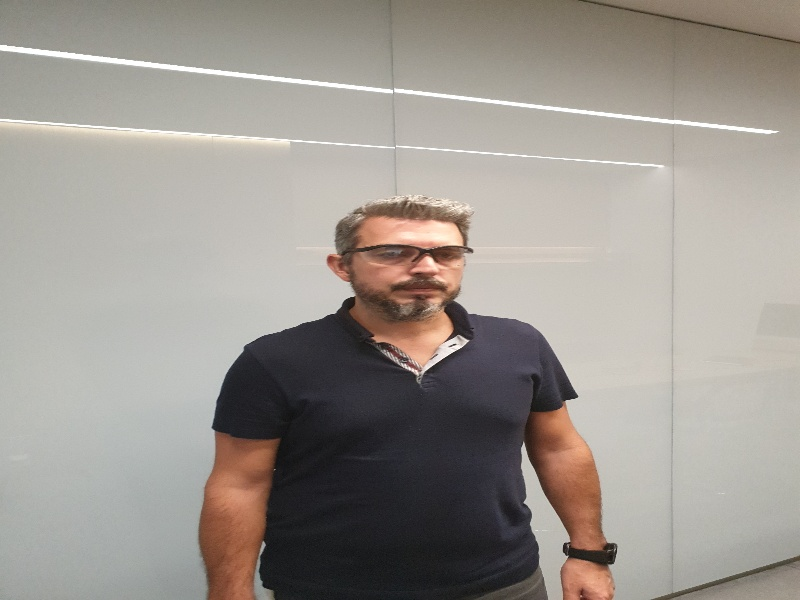Gozluk: (346, 244, 473, 269)
